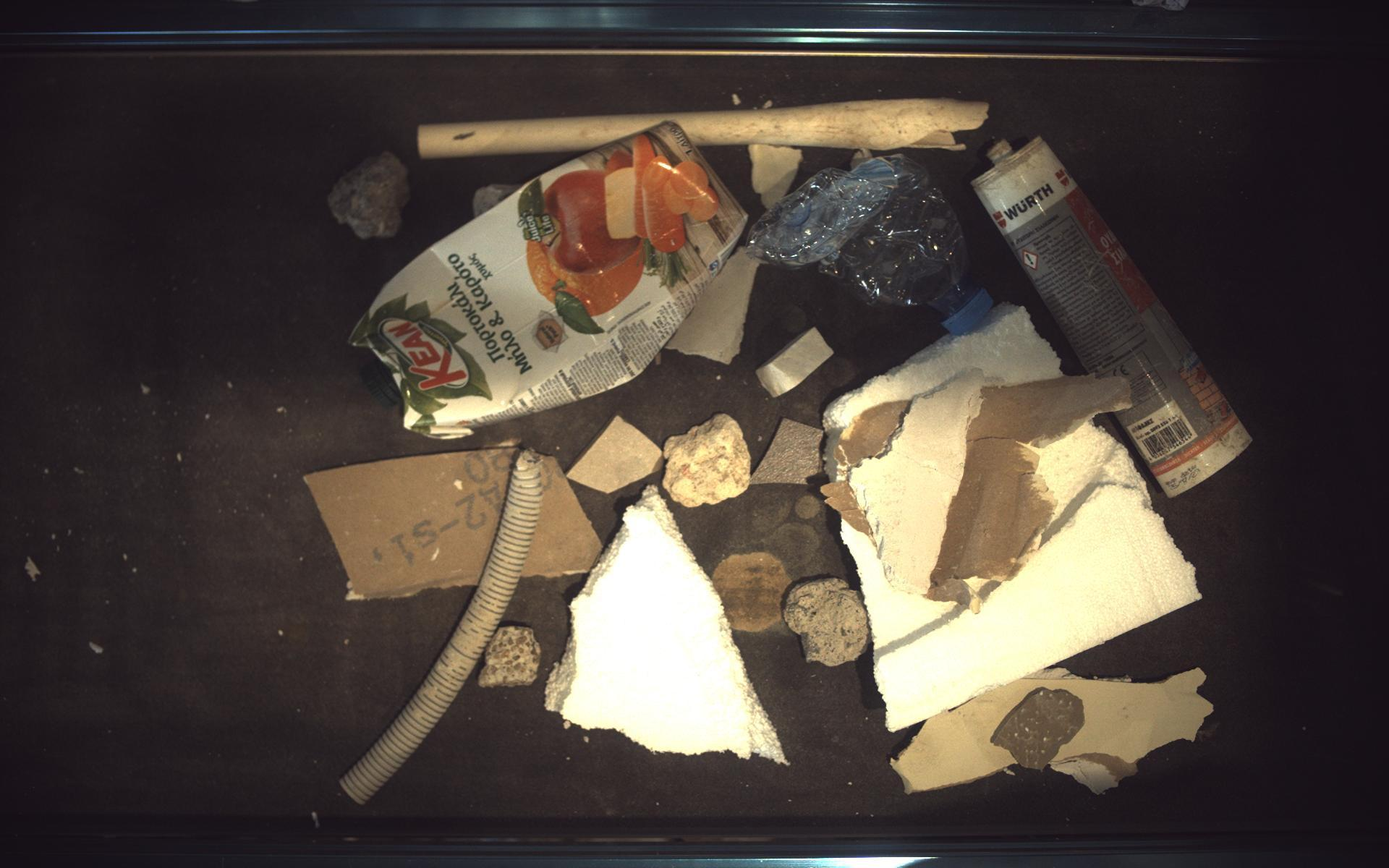concrete: (664, 414, 751, 508), (785, 578, 871, 668), (328, 150, 409, 239), (478, 626, 541, 689), (472, 183, 519, 216)
foam: (843, 425, 1202, 733), (545, 486, 789, 766), (824, 304, 1064, 480)
general_w: (349, 119, 749, 438), (749, 153, 994, 333)
gypsum_board: (825, 370, 1132, 611), (893, 669, 1216, 793), (304, 448, 518, 600), (522, 456, 602, 578)
pipes: (339, 450, 542, 806), (417, 97, 991, 158)
plastic: (975, 136, 1254, 497)
tile: (667, 248, 760, 364), (993, 689, 1087, 771), (567, 415, 663, 493), (758, 328, 835, 397), (751, 419, 825, 485), (750, 142, 803, 208), (851, 148, 875, 169)
